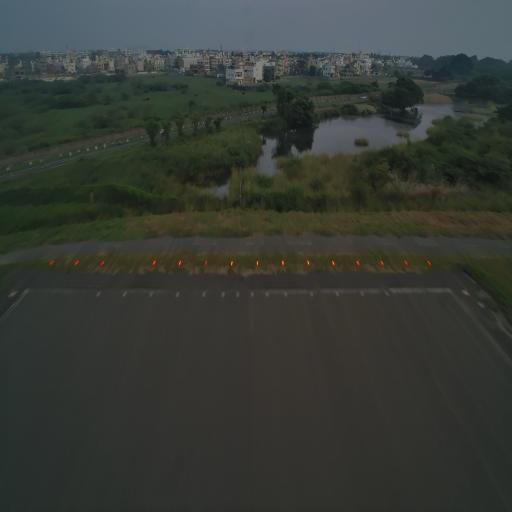off: (127, 258, 135, 276), (217, 288, 227, 300), (249, 286, 257, 300), (94, 287, 103, 299), (148, 286, 155, 300), (235, 286, 242, 300), (200, 288, 208, 300), (383, 286, 391, 298), (174, 288, 181, 301), (264, 288, 270, 302), (333, 288, 340, 300), (358, 287, 365, 299), (120, 290, 129, 298), (282, 288, 288, 300), (308, 288, 314, 299)
on: (400, 255, 412, 270), (150, 256, 159, 275), (227, 255, 236, 270), (305, 255, 314, 270), (280, 255, 288, 271), (252, 258, 261, 271), (46, 256, 54, 270), (98, 256, 106, 269), (377, 257, 385, 270), (330, 256, 337, 270), (425, 256, 433, 268), (73, 257, 80, 269), (203, 254, 209, 268), (176, 260, 184, 270), (354, 255, 360, 268)
